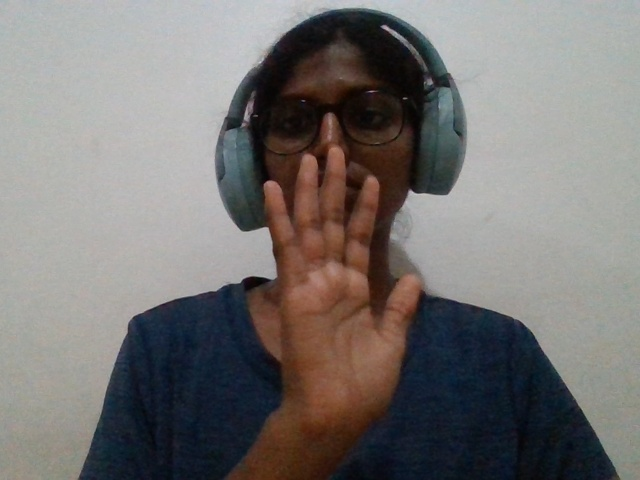Bye: (228, 137, 449, 480)
